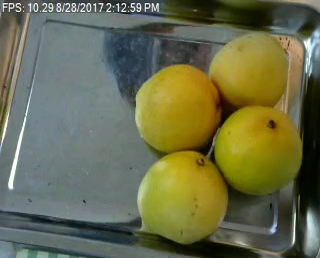Mango: (137, 150, 228, 242), (218, 107, 303, 194), (134, 64, 218, 149), (210, 33, 289, 109)
